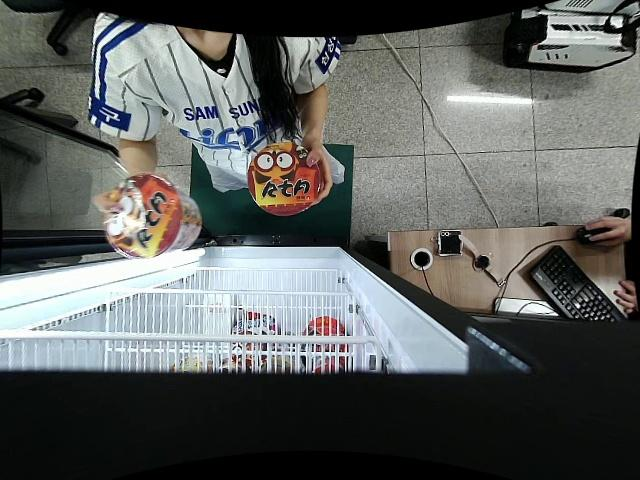00_hand: (299, 135, 332, 214), (91, 189, 127, 217)
05_nuguri_L: (105, 175, 201, 258), (247, 142, 324, 215)
